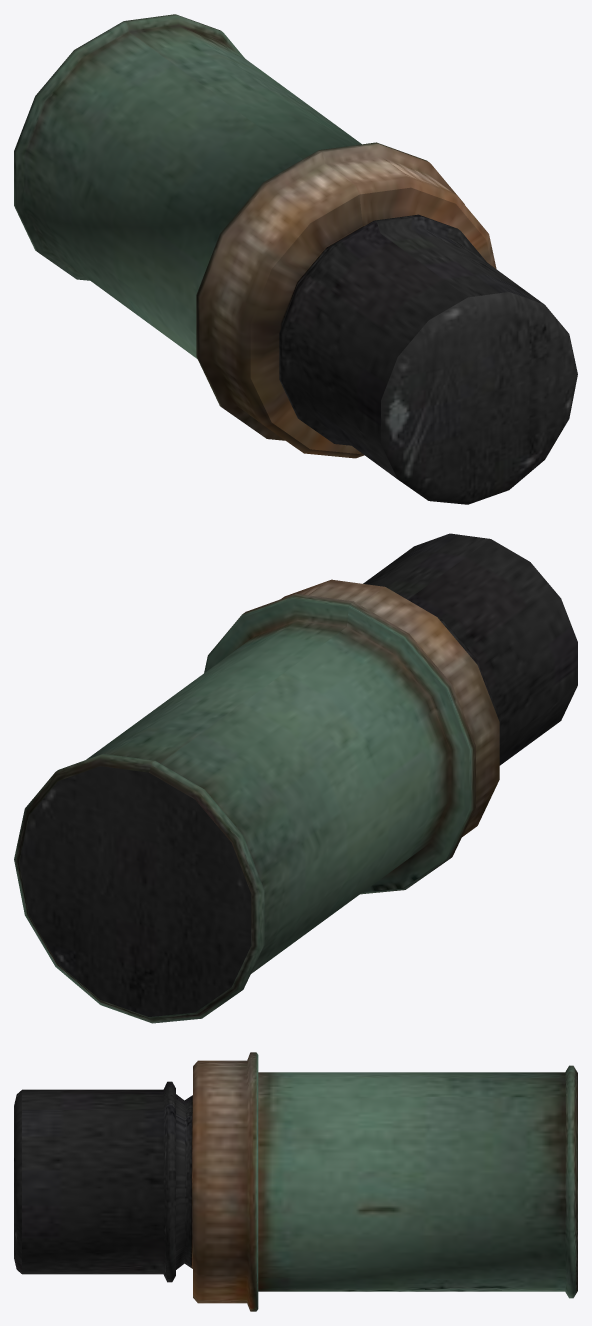
Rendered from viewmodel_britsmokegrenade.glb.
3 views of the same model, one above another, from view 1: azimuth 30°, elevation 25°; view 2: azimuth 150°, elevation 25°; view 3: azimuth 270°, elevation 25° (orthographic). The views are drawn at different scales.
Size of the model in its own units: 2.25 by 2.26 by 4.92.
1 material, 1 textured.
